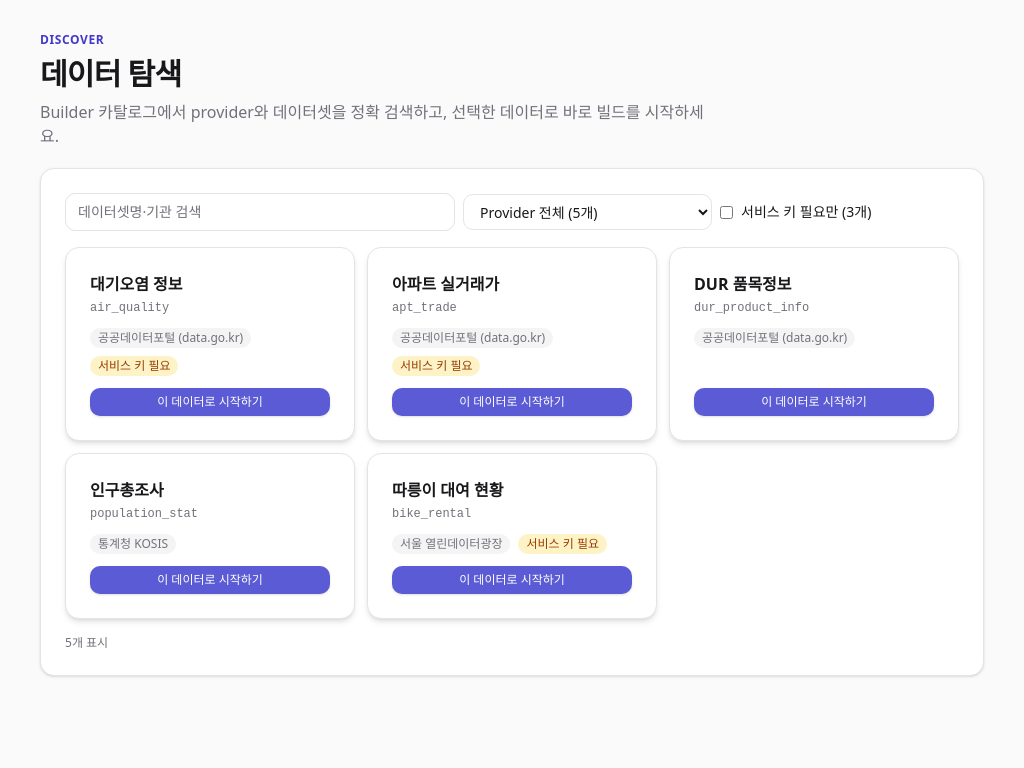
Test: DiscoverPage › filters by provider
The width and height of the screenshot is (1024, 768).
Expected: the text "대기오염 정보" is shown, [90,273,182,295]
Select "서울 열린데이터광장 (1개)" in the dropdown named "Provider" at x=588, y=212, box [463,194,712,230]
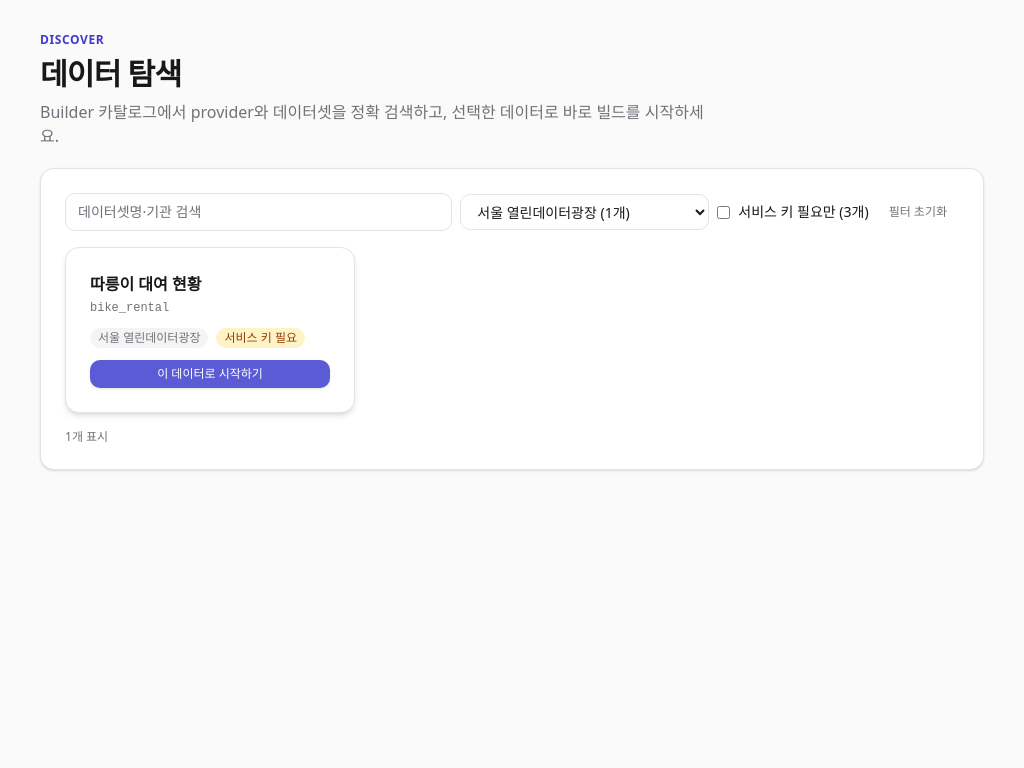
Expected: the text "따릉이 대여 현황" is shown, [90,273,201,295]
Expected: the text "대기오염 정보" is gone
